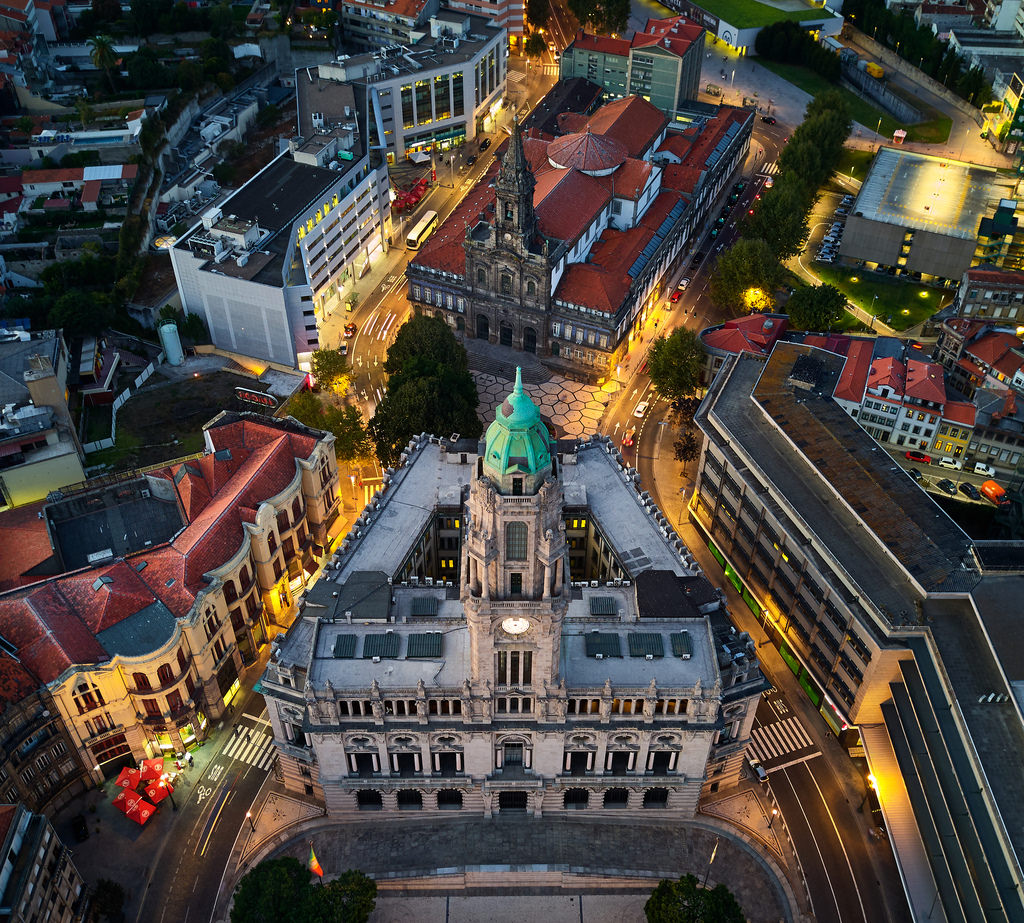camara: (252, 366, 770, 818)
